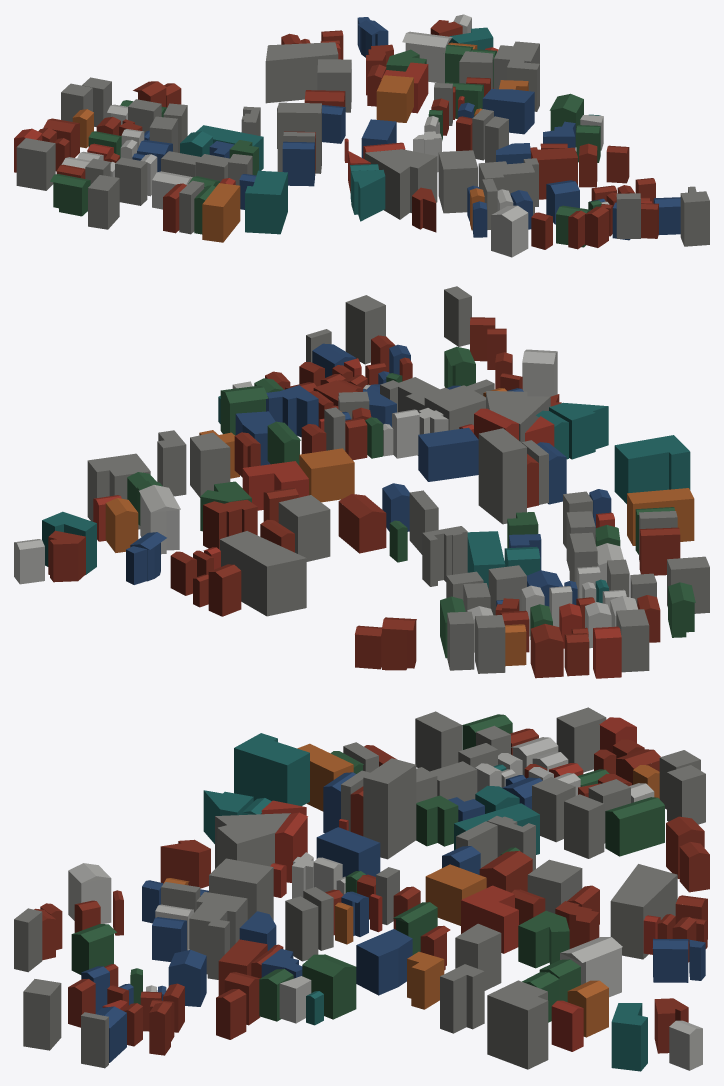
File: near-17-109438-59477.941d069d.glb
The picture shows the model from 3 angles, top to bottom: view 1: azimuth 30°, elevation 25°; view 2: azimuth 150°, elevation 25°; view 3: azimuth 270°, elevation 25°; orthographic projection. The views are drawn at different scales.
Size of the model in its own units: 310 by 60.12 by 299.
